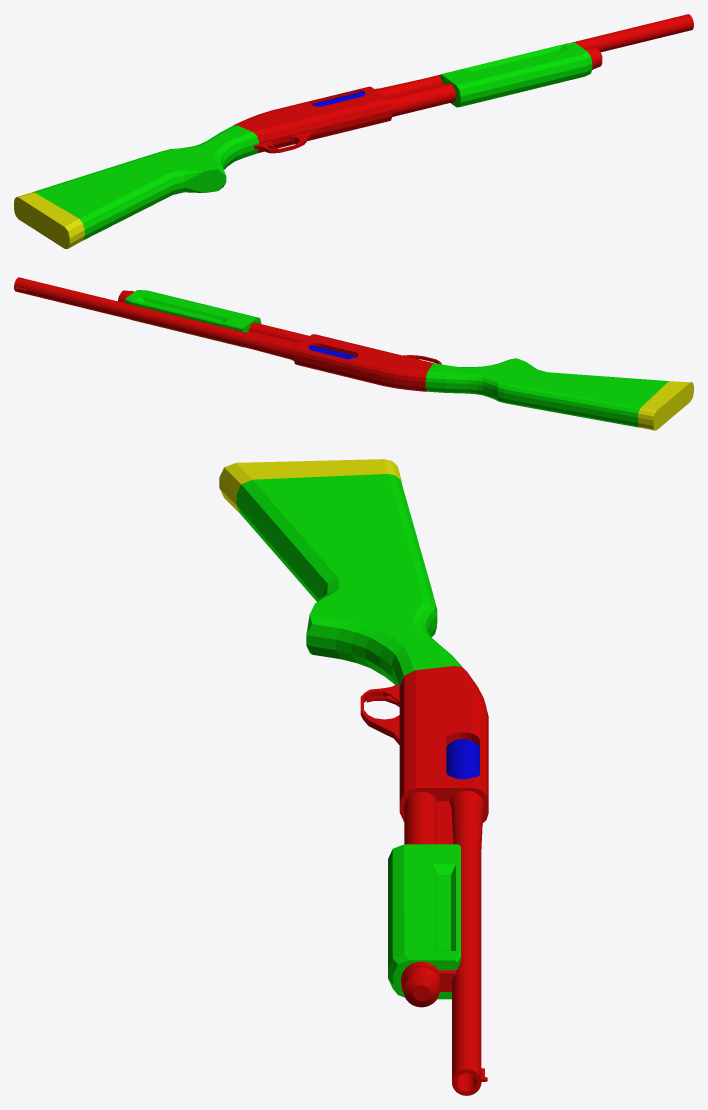
The picture shows the model from 3 angles, top to bottom: view 1: azimuth 30°, elevation 25°; view 2: azimuth 150°, elevation 25°; view 3: azimuth 270°, elevation 25°; orthographic projection. The views are drawn at different scales.
Parts seen in each view (by area): view 1: Cylinder.005; view 2: Cylinder.005; view 3: Cylinder.005.
Boxes of the visible parts, <box> form: Cylinder.005: <box>14,14,693,248</box>; Cylinder.005: <box>14,277,693,430</box>; Cylinder.005: <box>219,459,488,1095</box>.
Size of the model in its own units: 99.32 by 2.99 by 18.71.
